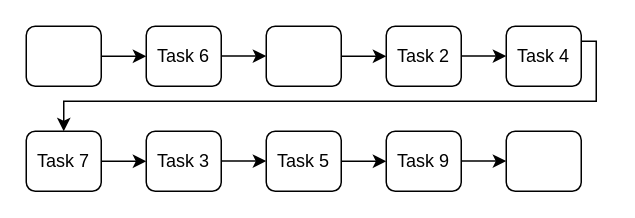
Image size: 635x218. Some labels were removed from this diagram. The centre of each missing label's shape, as x and y in pixels:
Task 1: point 63,55
Task 10: point 303,55
Task 8: point 543,160
